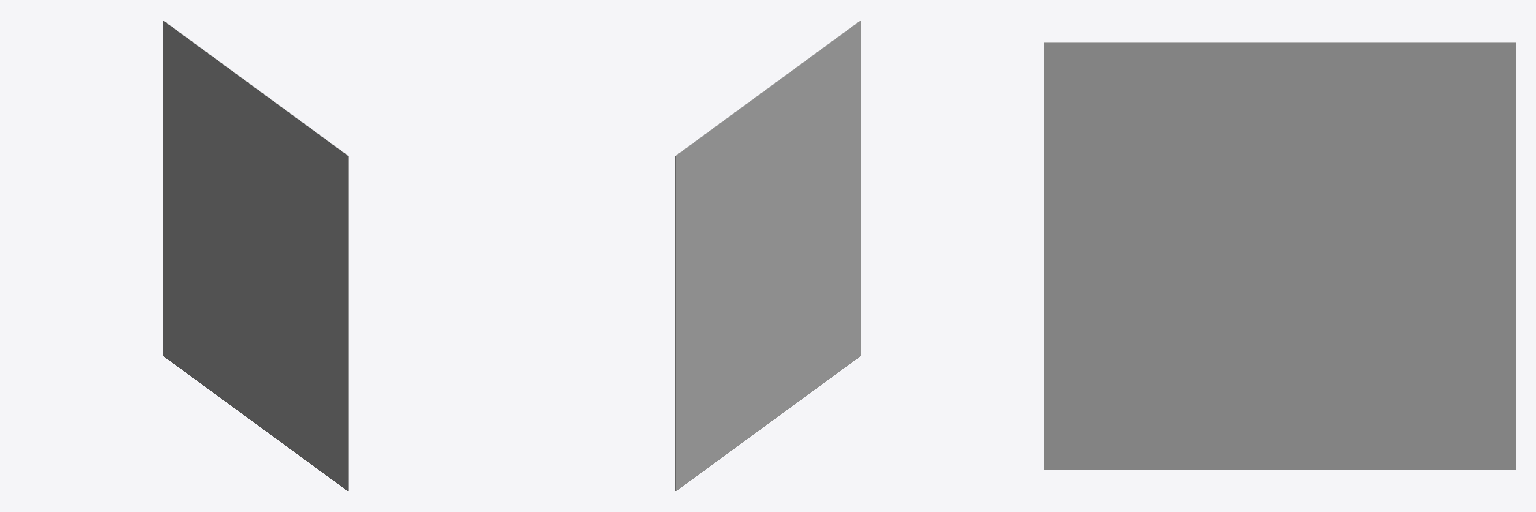
robot.urdf — carDoor:
<?xml version="1.0"?>
<robot name="carDoor">
  <link name="carDoor_base_link">

    <visual>
      <origin rpy="0 0 0" xyz="0.0 0.0 0.0"/>
      <geometry>
          <mesh filename="square.obj" scale="1 1 1"/>
      </geometry>
      <material name="gray">
        <color rgba="0.8 0.8 0.8 1"/>
      </material>
    </visual>
    <collision>
      <origin rpy="0 0 0" xyz="0.0 0.0 0.0"/>
      <geometry>
          <mesh filename="square.obj" scale="1 1 1"/>
      </geometry>
    </collision>
  </link>
</robot>

--- What the picture shows (computed from the rendered views, not written in the file) ---
3 views of the same robot in one strip: view 1: azimuth 30°, elevation 25°; view 2: azimuth 150°, elevation 25°; view 3: azimuth 270°, elevation 25° (orthographic).
Robot: carDoor — 1 links, 0 joints (none); root link carDoor_base_link; default pose: every joint at zero.
Links seen in each view (by area): view 1: carDoor_base_link; view 2: carDoor_base_link; view 3: carDoor_base_link.
Link boxes in pixels (x1,y1,x2,y2): carDoor_base_link: (163,21,348,490); carDoor_base_link: (675,21,860,490); carDoor_base_link: (1044,42,1515,469).
Size in the robot's own frame: 0.002 by 1 by 1 metres.
Meshes: 1 distinct files referenced, 1 mesh visuals loaded (1 OBJ).